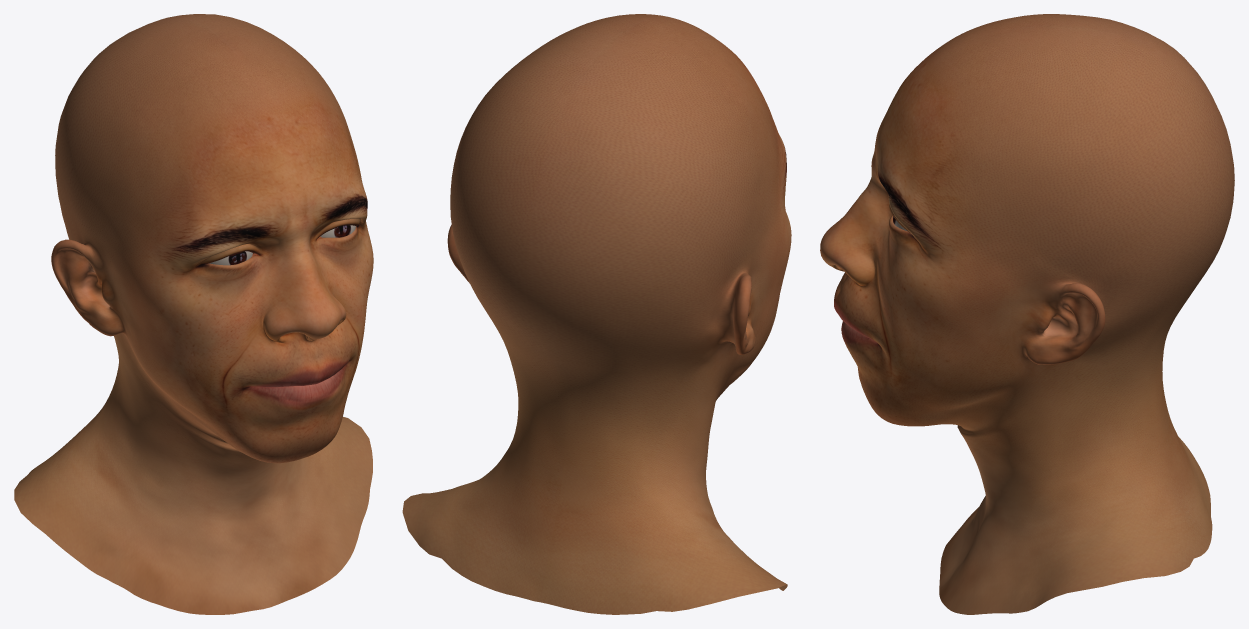
3 renders of one model, left to right at view 1: azimuth 30°, elevation 25°; view 2: azimuth 150°, elevation 25°; view 3: azimuth 270°, elevation 25°, orthographic. The views are drawn at different scales.
Visible parts, largest first — view 1: Registered head; view 2: Registered head; view 3: Registered head.
Boxes of the visible parts, box(x1,y1,x2,y2) form: Registered head: box(14, 14, 373, 614); Registered head: box(402, 14, 791, 614); Registered head: box(820, 14, 1234, 614).
Size of the model in its own units: 1.26 by 1.89 by 1.27.
3 materials, 3 textured.
